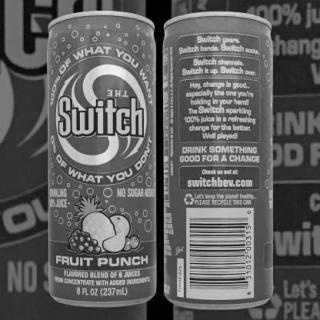alumunium_can: (160, 9, 282, 313), (43, 7, 162, 311)
